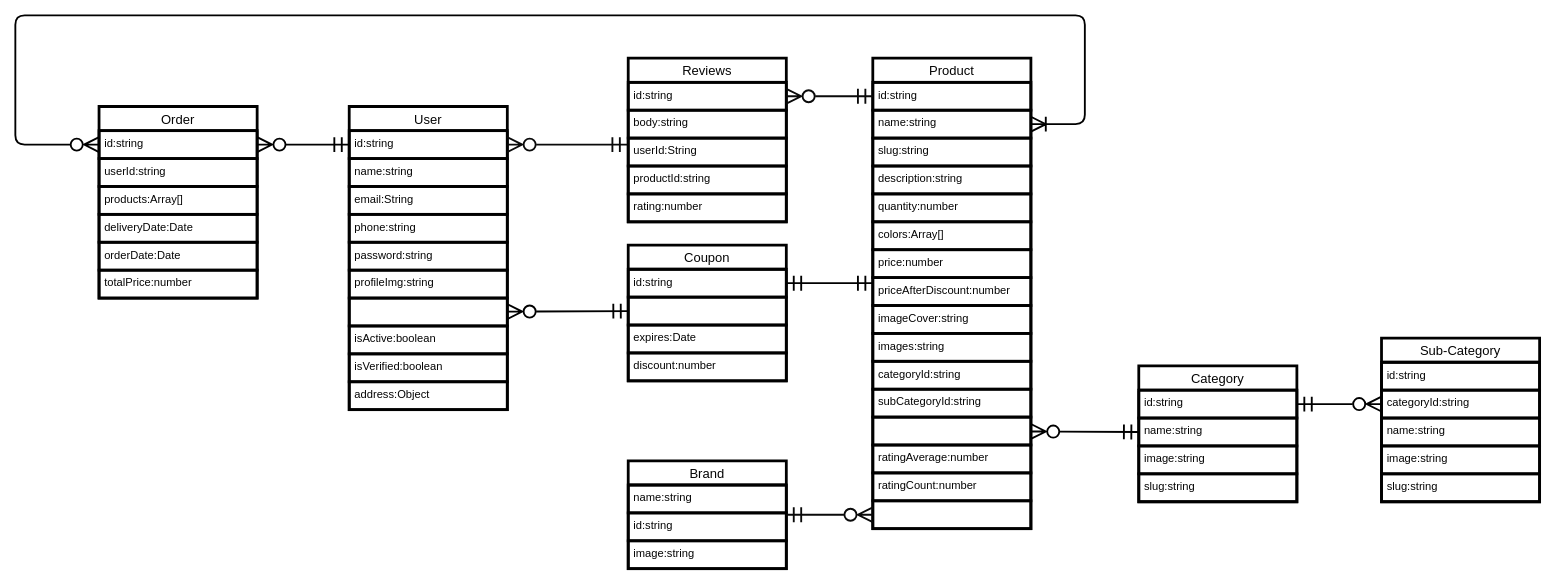
This 1555x584 diagram has some shape labels left out. The shapes that lost their labels are listed below. From the top down, each one's centre as x and y in pixels, then its label:
At pixel 427 311: "role:ENUM".
At pixel 706 310: "code:String".
At pixel 951 430: "brandId:string".
At pixel 951 514: "soldCount:number".
